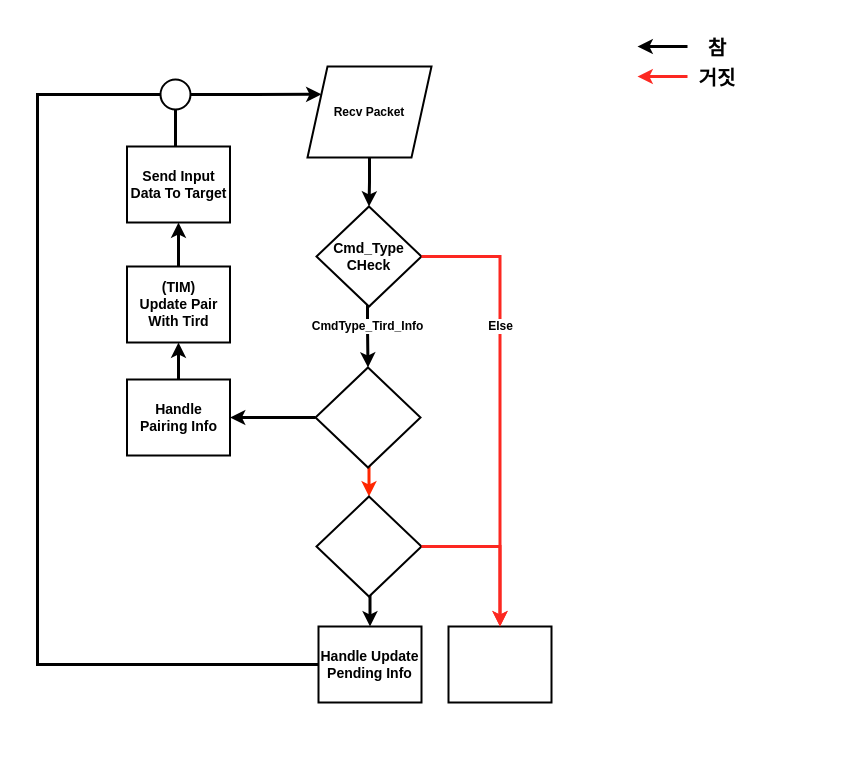
Image size: 855x775. Some labels were removed from this diagram. The shapes that lost their labels are listed below. From the top down, each one's box as (x1, y1, x2, y2) in pixels, then its label:
(314, 366, 421, 468): Is Pair?
(315, 495, 422, 597): Device Type Is TIRD?
(447, 625, 552, 703): Disconnected
